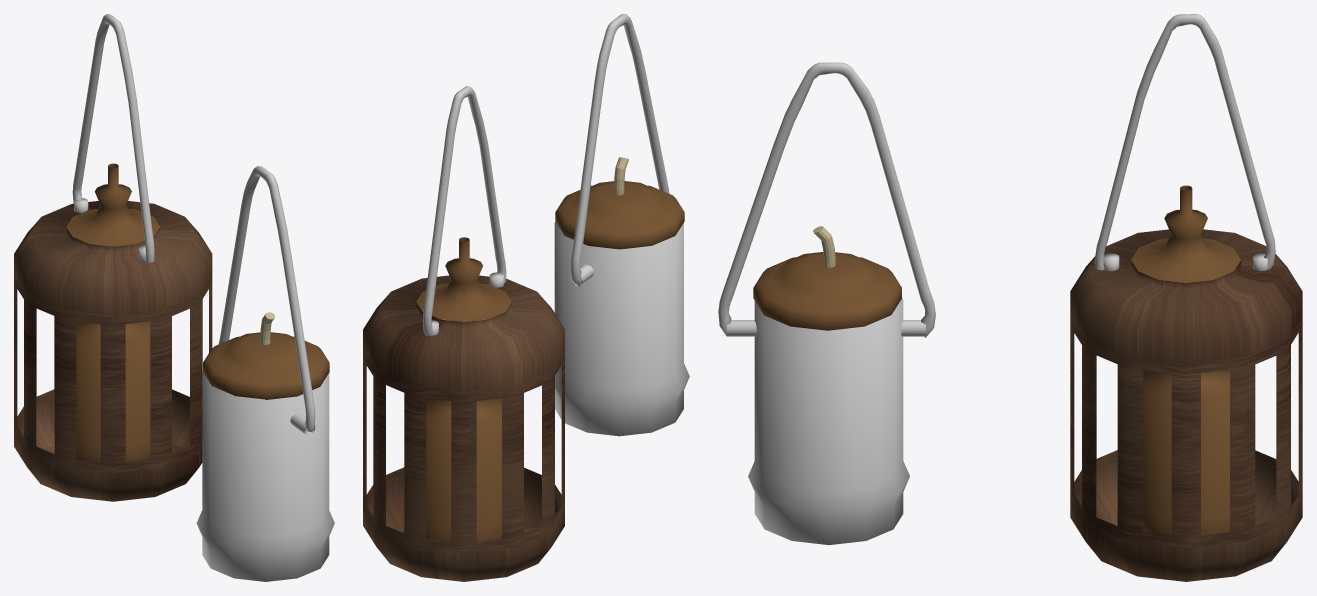
File: den 2.fbx
The picture shows the model from 3 angles, left to right: view 1: azimuth 30°, elevation 25°; view 2: azimuth 150°, elevation 25°; view 3: azimuth 270°, elevation 25°; orthographic projection. The views are drawn at different scales.
Visible parts, largest first — view 1: Cylinder.005, Cylinder, Cylinder.009, Cylinder.003, Cylinder.004, Cylinder.008, Cylinder.011; view 2: Cylinder.005, Cylinder, Cylinder.009, Cylinder.003, Cylinder.004, Cylinder.008, Cylinder.011; view 3: Cylinder.005, Cylinder, Cylinder.009, Cylinder.003, Cylinder.004, Cylinder.008, Cylinder.011, Cylinder.002.
Part boxes in pixels (x1,y1,x2,y2): Cylinder.005: (14, 201, 212, 501); Cylinder: (196, 372, 334, 581); Cylinder.009: (76, 321, 150, 462); Cylinder.003: (203, 332, 329, 399); Cylinder.004: (218, 166, 315, 435); Cylinder.008: (72, 14, 154, 262); Cylinder.011: (66, 163, 159, 246); Cylinder.005: (363, 275, 564, 581); Cylinder: (554, 222, 689, 436); Cylinder.009: (426, 398, 501, 541); Cylinder.003: (555, 181, 684, 249); Cylinder.004: (570, 14, 669, 286); Cylinder.008: (422, 86, 506, 336); Cylinder.011: (416, 237, 511, 321); Cylinder.005: (1070, 229, 1302, 581); Cylinder: (748, 298, 909, 544); Cylinder.009: (1143, 370, 1229, 535); Cylinder.003: (753, 252, 901, 330); Cylinder.004: (718, 62, 935, 337); Cylinder.008: (1095, 14, 1275, 270); Cylinder.011: (1131, 185, 1240, 282); Cylinder.002: (727, 320, 925, 336).
Bounding box in the file's own units: 51.52 × 129 × 130.
